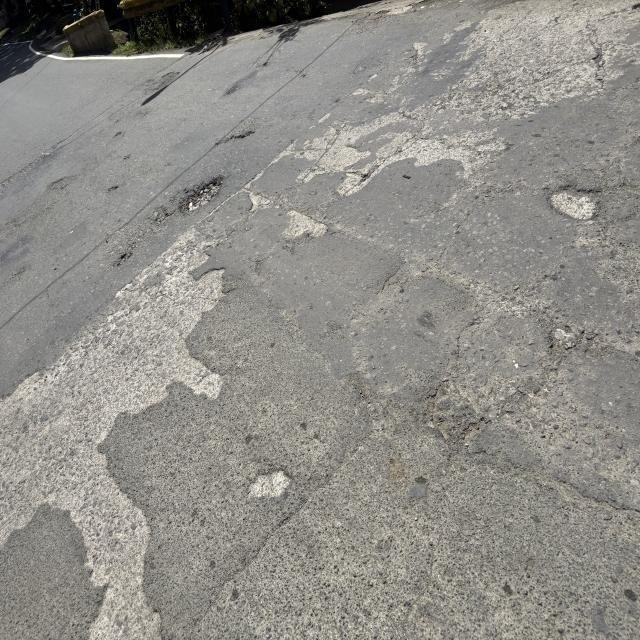pothole: (404, 256, 624, 462), (536, 170, 610, 242)
